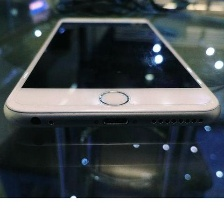phone: (2, 13, 224, 132)
